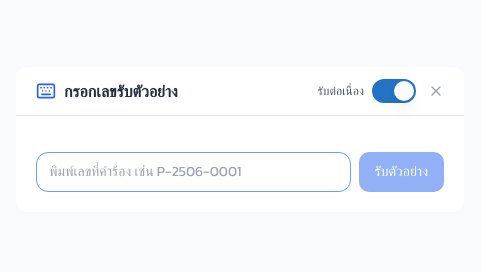
Test case: round-specific scanners › qc rejects opposite-side QR before confirmation
The width and height of the screenshot is (481, 272).
Type "LIS-EXTRA-11111111-1111-4111-8111-111111111111" into the field with placeholder "พิมพ์เลขที่คำร้อง เช่น P-2506-0001". click: (193,172)
box: [36,152,350,192]
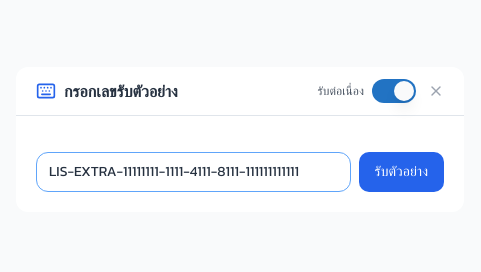
Click the button "รับตัวอย่าง". click: (401,172)
box: [358,152,444,192]
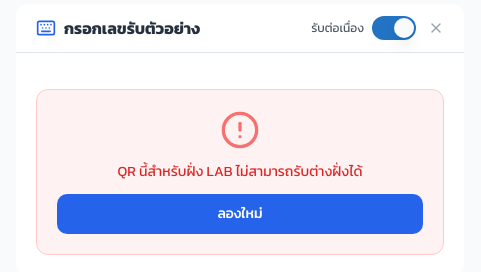
expect the text "QR นี้สำหรับฝั่ง LAB ไม่สามารถรับต่างฝั่งได้" is shown: met, box [118,160,362,182]
